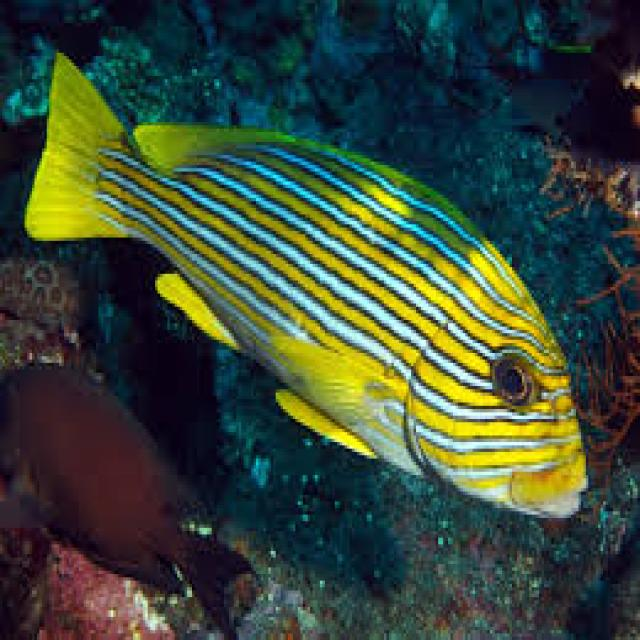RibbonedSweetlips: (22, 46, 591, 521)
